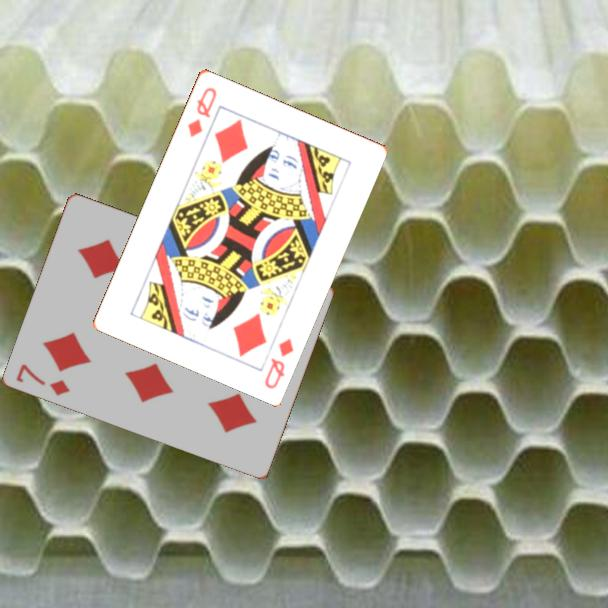d07: (13, 360, 74, 398)
d12: (184, 83, 220, 140), (261, 334, 296, 391)
